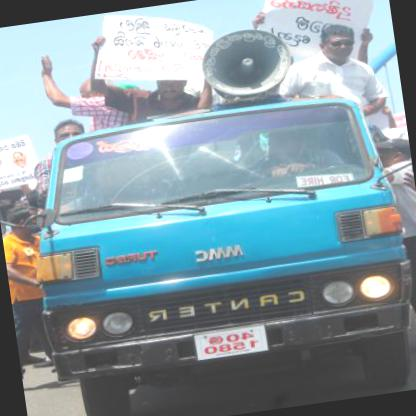truck: (7, 78, 415, 415)
